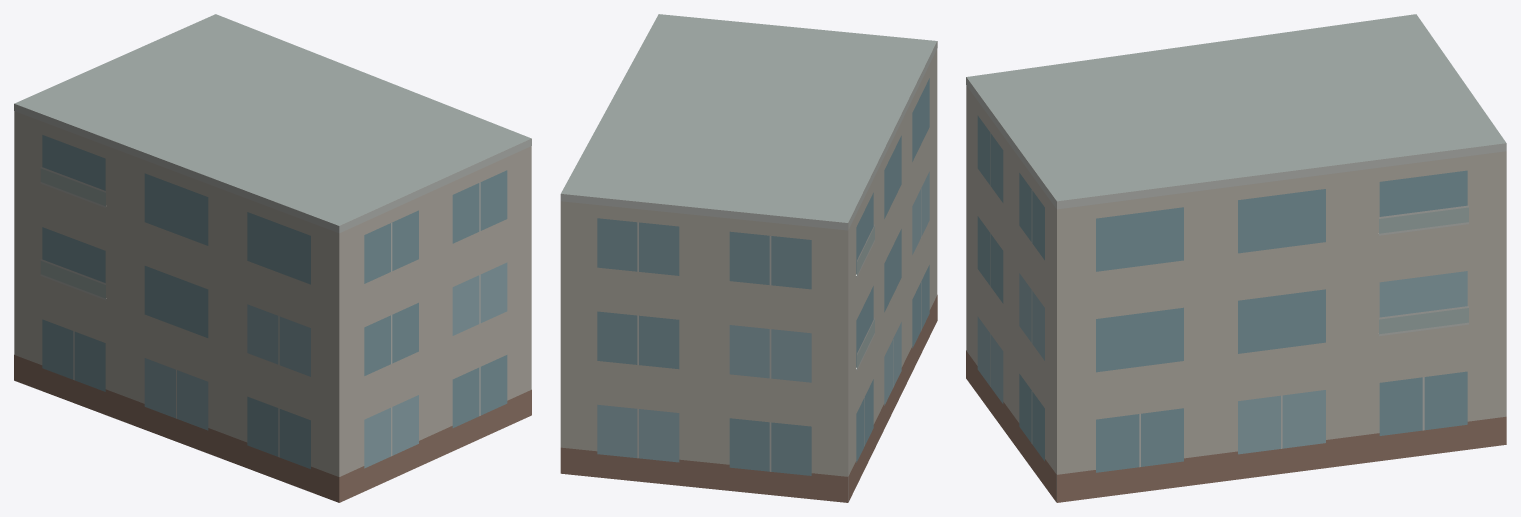
The model's file is survey-upis-32704991.glb.
The picture shows the model from 3 angles, left to right: view 1: azimuth 30°, elevation 25°; view 2: azimuth 150°, elevation 25°; view 3: azimuth 270°, elevation 25°; orthographic projection. The views are drawn at different scales.
Visible parts, largest first — view 1: survey-upis-32704991.tmp; view 2: survey-upis-32704991.tmp; view 3: survey-upis-32704991.tmp.
Part boxes in pixels (x1,y1,x2,y2): survey-upis-32704991.tmp: (14, 14, 531, 502); survey-upis-32704991.tmp: (560, 14, 937, 502); survey-upis-32704991.tmp: (966, 14, 1506, 502).
Size of the model in its own units: 12.2 by 9.15 by 14.87.
